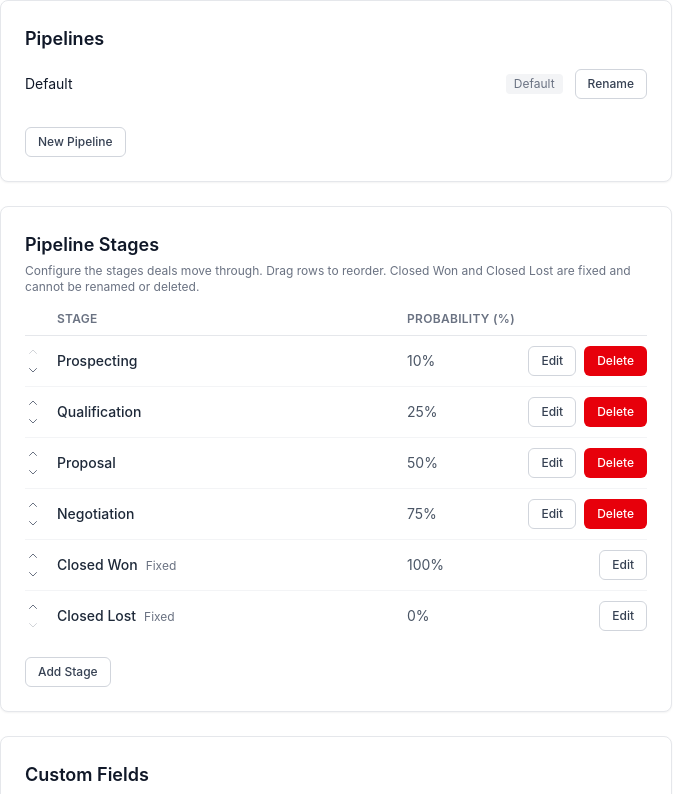
Test: CustomisationSettings — pipeline stages reorder › shows error toast when reorder request fails
This screenshot has width=689, height=794.
Click the button named "Move Prospecting down" at (37, 370), box x1=25 y1=362 x2=49 y2=378
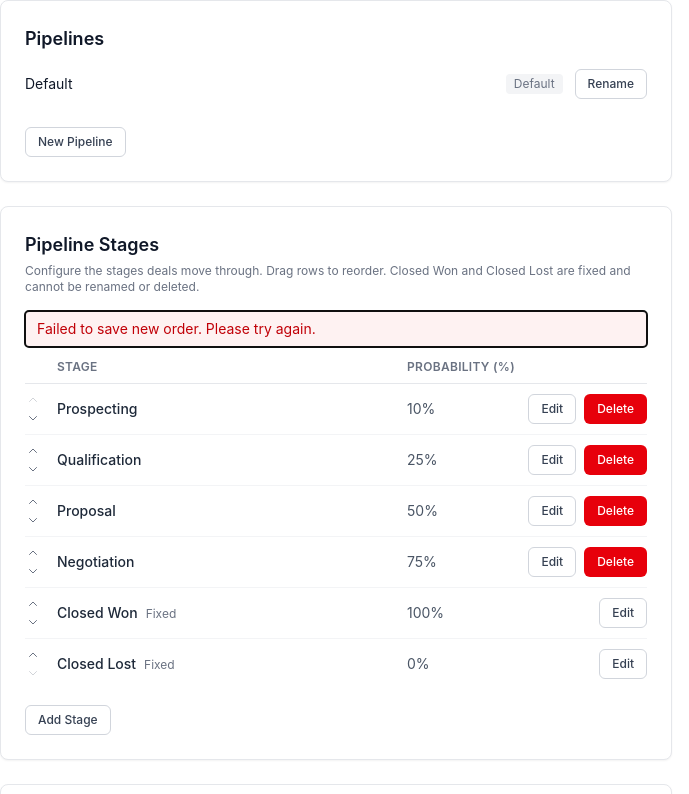
Expected: the message "Failed to save new order. Please try again." is shown, x1=25 y1=311 x2=647 y2=347
